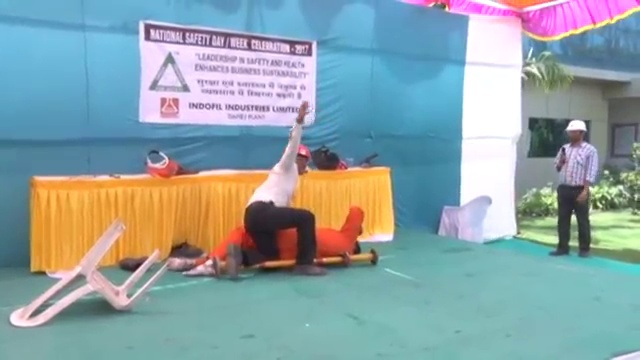helmet: (291, 140, 312, 161), (564, 119, 590, 134)
helmet_on: (563, 118, 591, 146), (291, 139, 311, 177)
person: (224, 105, 325, 284), (169, 208, 364, 276), (555, 119, 601, 259)
